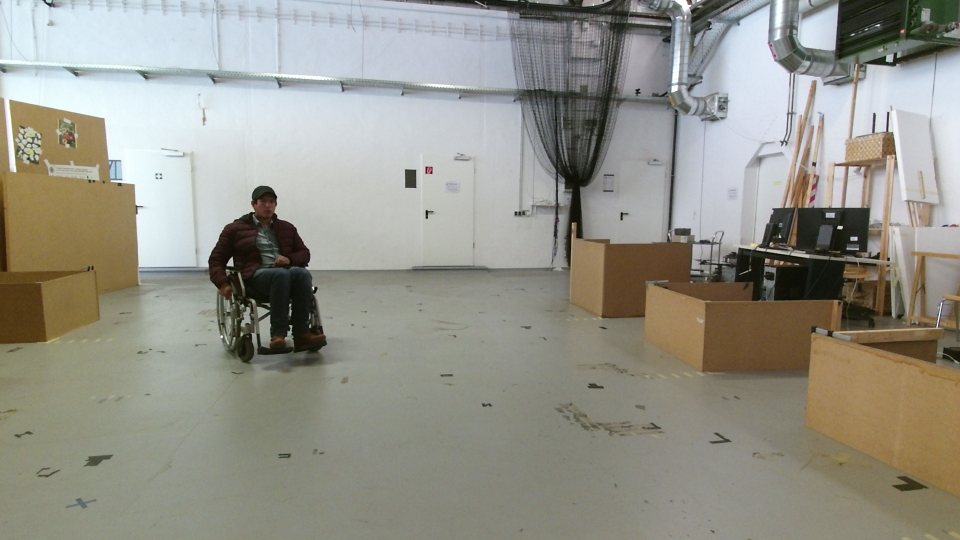wheelchair: (200, 178, 328, 363)
